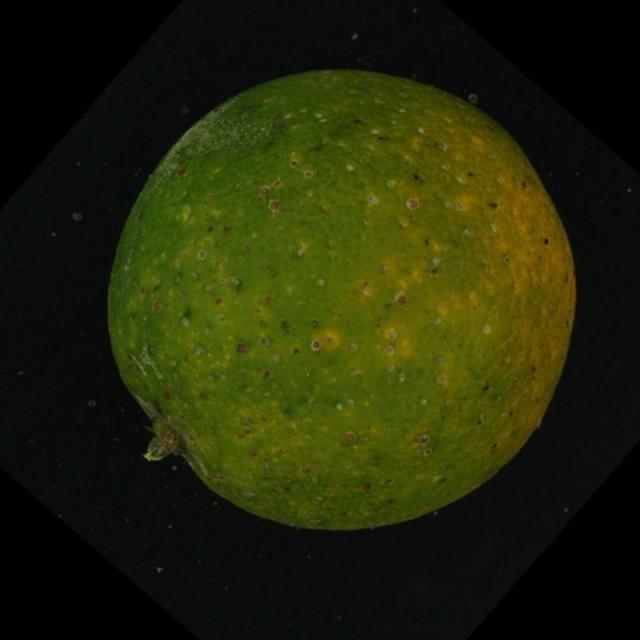grenning: (94, 48, 590, 542)
